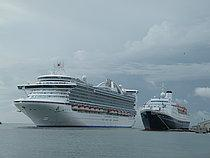Ship: (13, 58, 142, 132), (141, 81, 195, 135)
